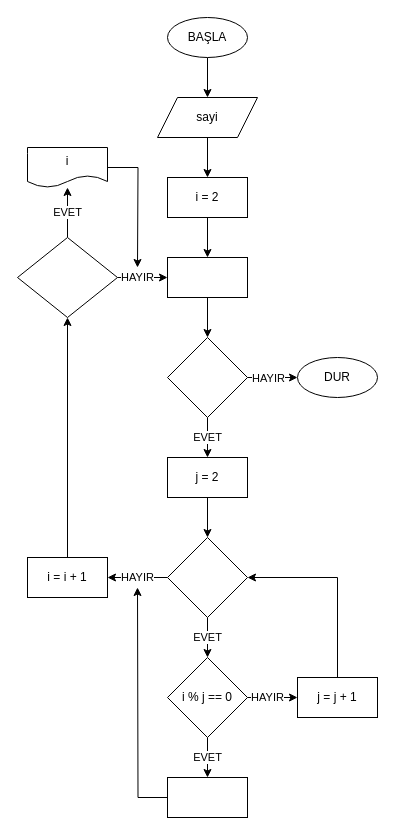
Some shapes in this 395 by 835 pixel diagram are drawn without their labels. The shapes that lost their labels are listed below. From the top down, each one's centre as x and y in pixels, then its label:
At (67,277): "kontrol == false".
At (207,277): "kontrol = false".
At (207,377): "i <= sayi".
At (207,577): "j < i".
At (207,797): "konrtol = true".
